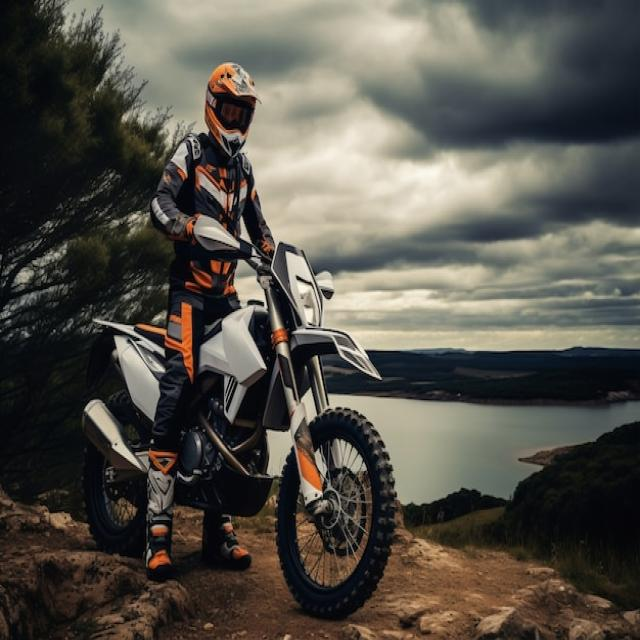MOTORCYCLE: (79, 250, 402, 622)
